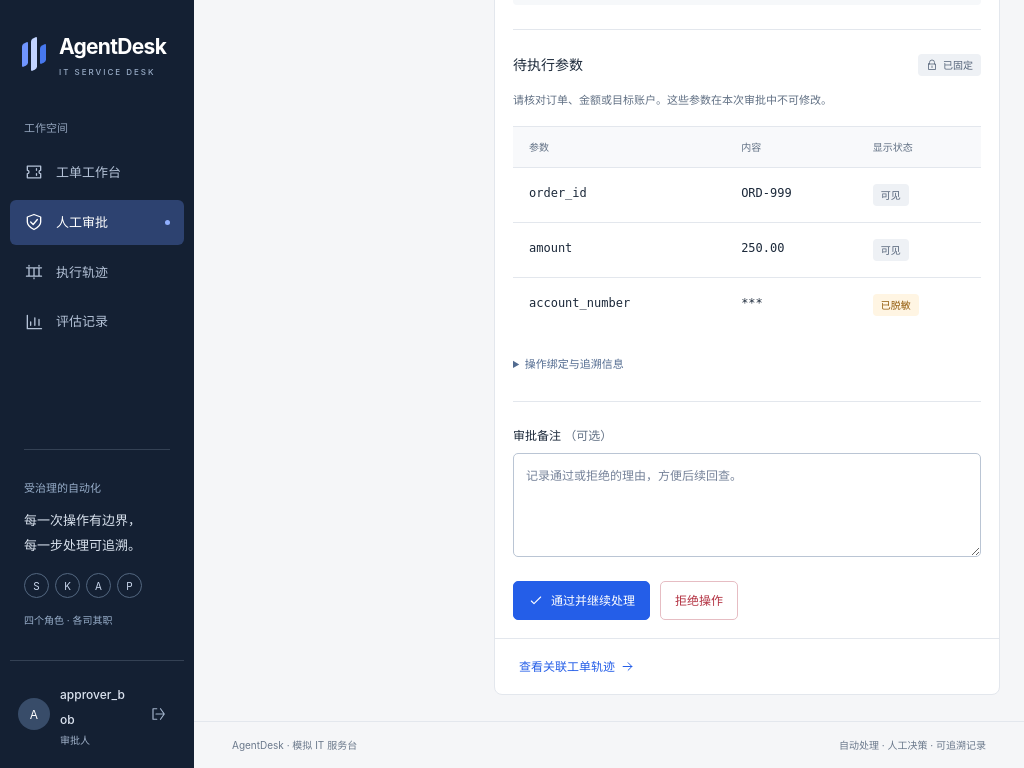
it: ApprovalView › submits reject decision with expected version
(page scrolled)
Type "Amount outside refund window" into the text box labelled "审批备注 （可选）" at (747, 506), box [513, 454, 981, 558]
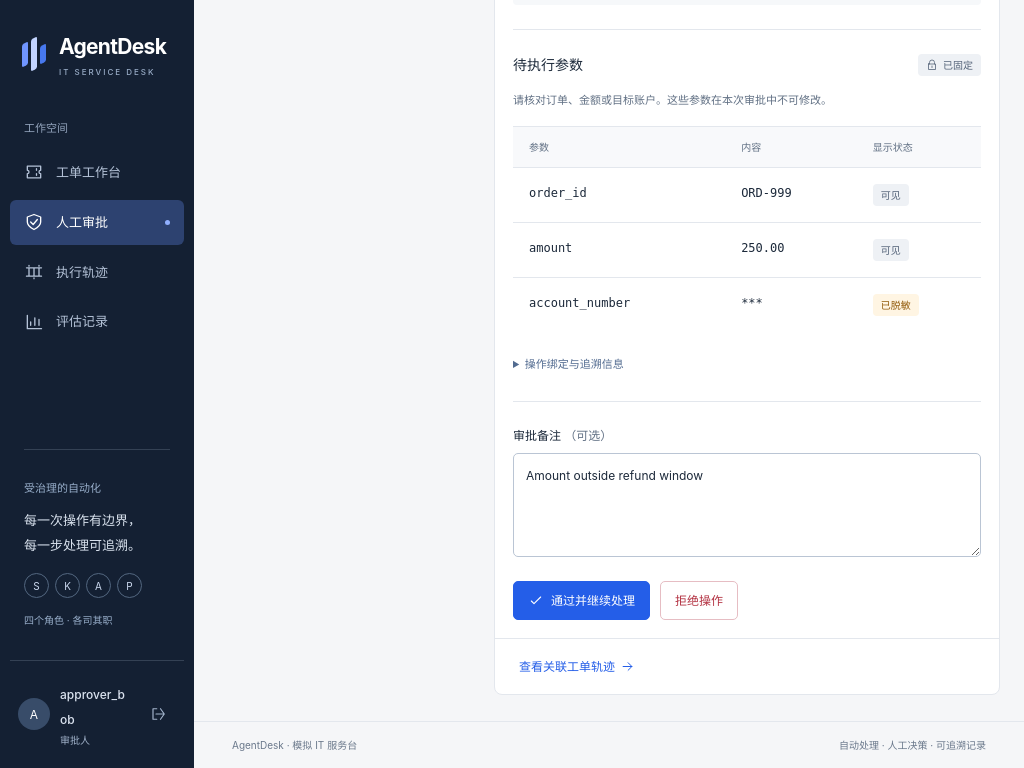
Click the button with test id "reject-button" at (699, 601), box [660, 581, 738, 620]
(page scrolled)
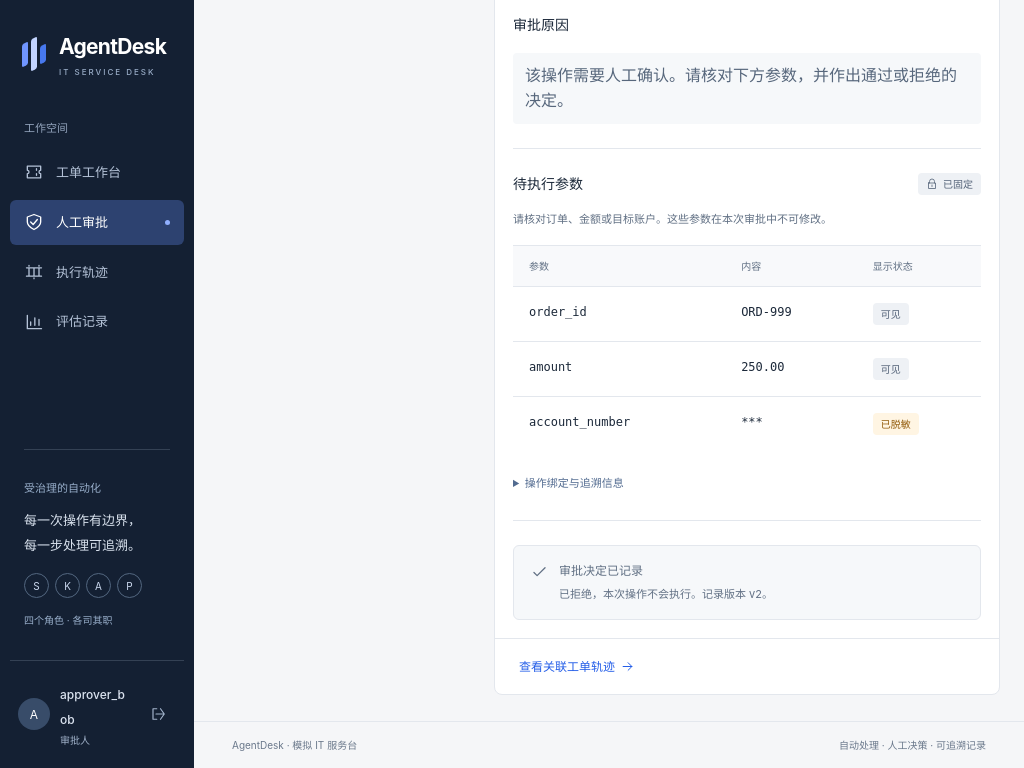
Expected: the text "已拒绝" is shown, [559, 587, 773, 601]
Expected: the text "审批决定已记录" is shown, [559, 563, 643, 578]
